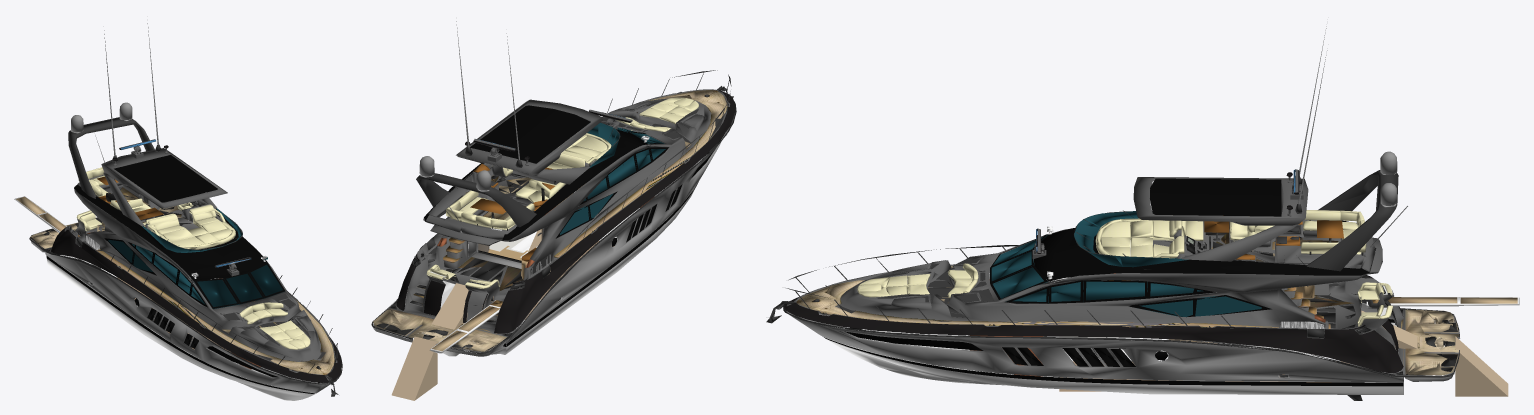
The model's file is lux-yacht.zfix-v7.lod1.glb.
3 renders of one model, left to right at view 1: azimuth 30°, elevation 25°; view 2: azimuth 150°, elevation 25°; view 3: azimuth 270°, elevation 25°, orthographic. The views are drawn at different scales.
Visible parts, largest first — view 1: Object_5, Object_6, Object_9, Object_87, Object_4, Object_10, Object_77, Object_45; view 2: Object_6, Object_5, Object_4, Object_9, Object_77, Object_10, Object_87, Object_45; view 3: Object_5, Object_6, Object_9, Object_10, Object_4, Object_87, Object_45, Object_77.
Boxes of the visible parts, x1=… form: Object_5: x1=30, y1=118, x2=342, y2=393; Object_6: x1=33, y1=23, x2=336, y2=383; Object_9: x1=31, y1=102, x2=340, y2=393; Object_87: x1=76, y1=167, x2=310, y2=349; Object_4: x1=14, y1=117, x2=342, y2=396; Object_10: x1=51, y1=140, x2=341, y2=382; Object_77: x1=16, y1=187, x2=334, y2=375; Object_45: x1=14, y1=179, x2=316, y2=400; Object_6: x1=373, y1=21, x2=729, y2=352; Object_5: x1=372, y1=94, x2=736, y2=400; Object_4: x1=371, y1=70, x2=736, y2=353; Object_9: x1=373, y1=104, x2=734, y2=356; Object_77: x1=373, y1=90, x2=727, y2=351; Object_10: x1=396, y1=89, x2=735, y2=333; Object_87: x1=426, y1=97, x2=698, y2=288; Object_45: x1=405, y1=135, x2=706, y2=356; Object_5: x1=783, y1=169, x2=1508, y2=396; Object_6: x1=786, y1=26, x2=1459, y2=375; Object_9: x1=786, y1=151, x2=1459, y2=382; Object_10: x1=784, y1=170, x2=1403, y2=373; Object_4: x1=766, y1=170, x2=1459, y2=400; Object_87: x1=857, y1=210, x2=1392, y2=326; Object_45: x1=825, y1=226, x2=1519, y2=394; Object_77: x1=796, y1=232, x2=1517, y2=375.
Bounding box in the file's own units: 8.49 × 21.22 × 40.01.
Materials: 9 (4 with a texture image).
